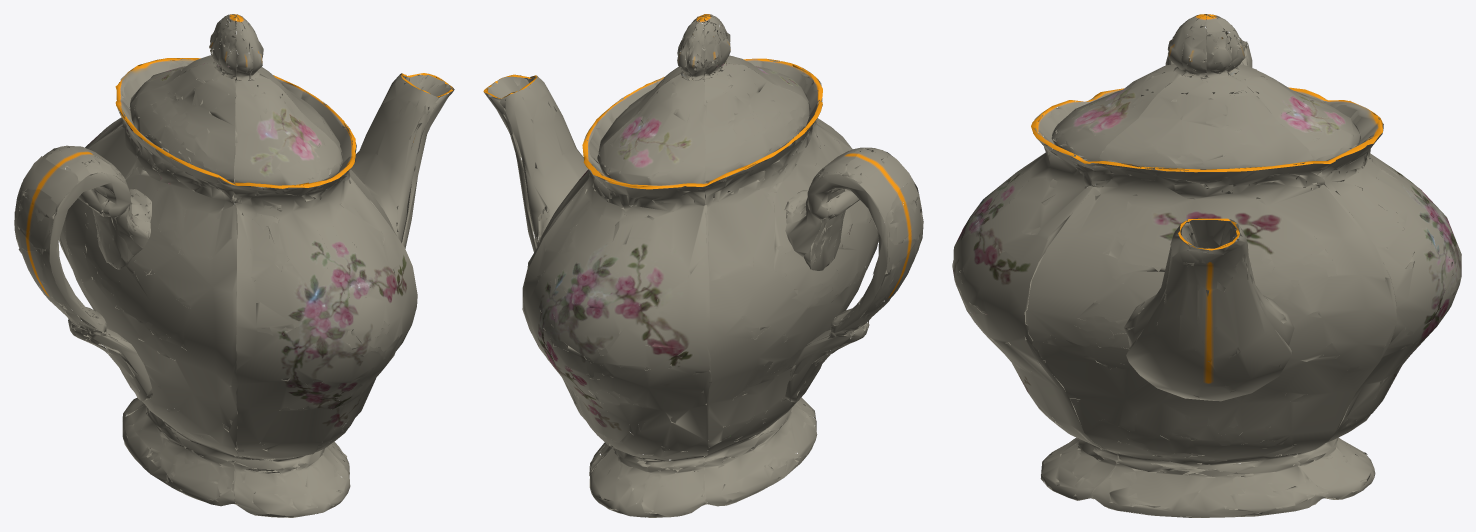
The model's file is Teapot.fbx.
3 renders of one model, left to right at view 1: azimuth 30°, elevation 25°; view 2: azimuth 150°, elevation 25°; view 3: azimuth 270°, elevation 25°, orthographic. The views are drawn at different scales.
Visible parts, largest first — view 1: Teepot_lowres2_Material.001_0.001; view 2: Teepot_lowres2_Material.001_0.001; view 3: Teepot_lowres2_Material.001_0.001.
Boxes of the visible parts, x1,y1,x2,y2 form: Teepot_lowres2_Material.001_0.001: (14, 14, 454, 517); Teepot_lowres2_Material.001_0.001: (483, 14, 923, 517); Teepot_lowres2_Material.001_0.001: (952, 14, 1461, 517).
Size of the model in its own units: 20 by 20 by 20.
1 material, 1 textured.
